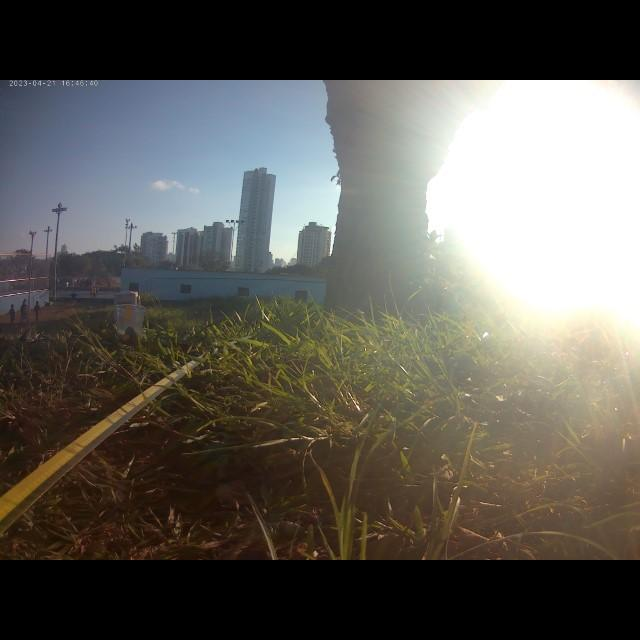arvore: (319, 80, 472, 326)
